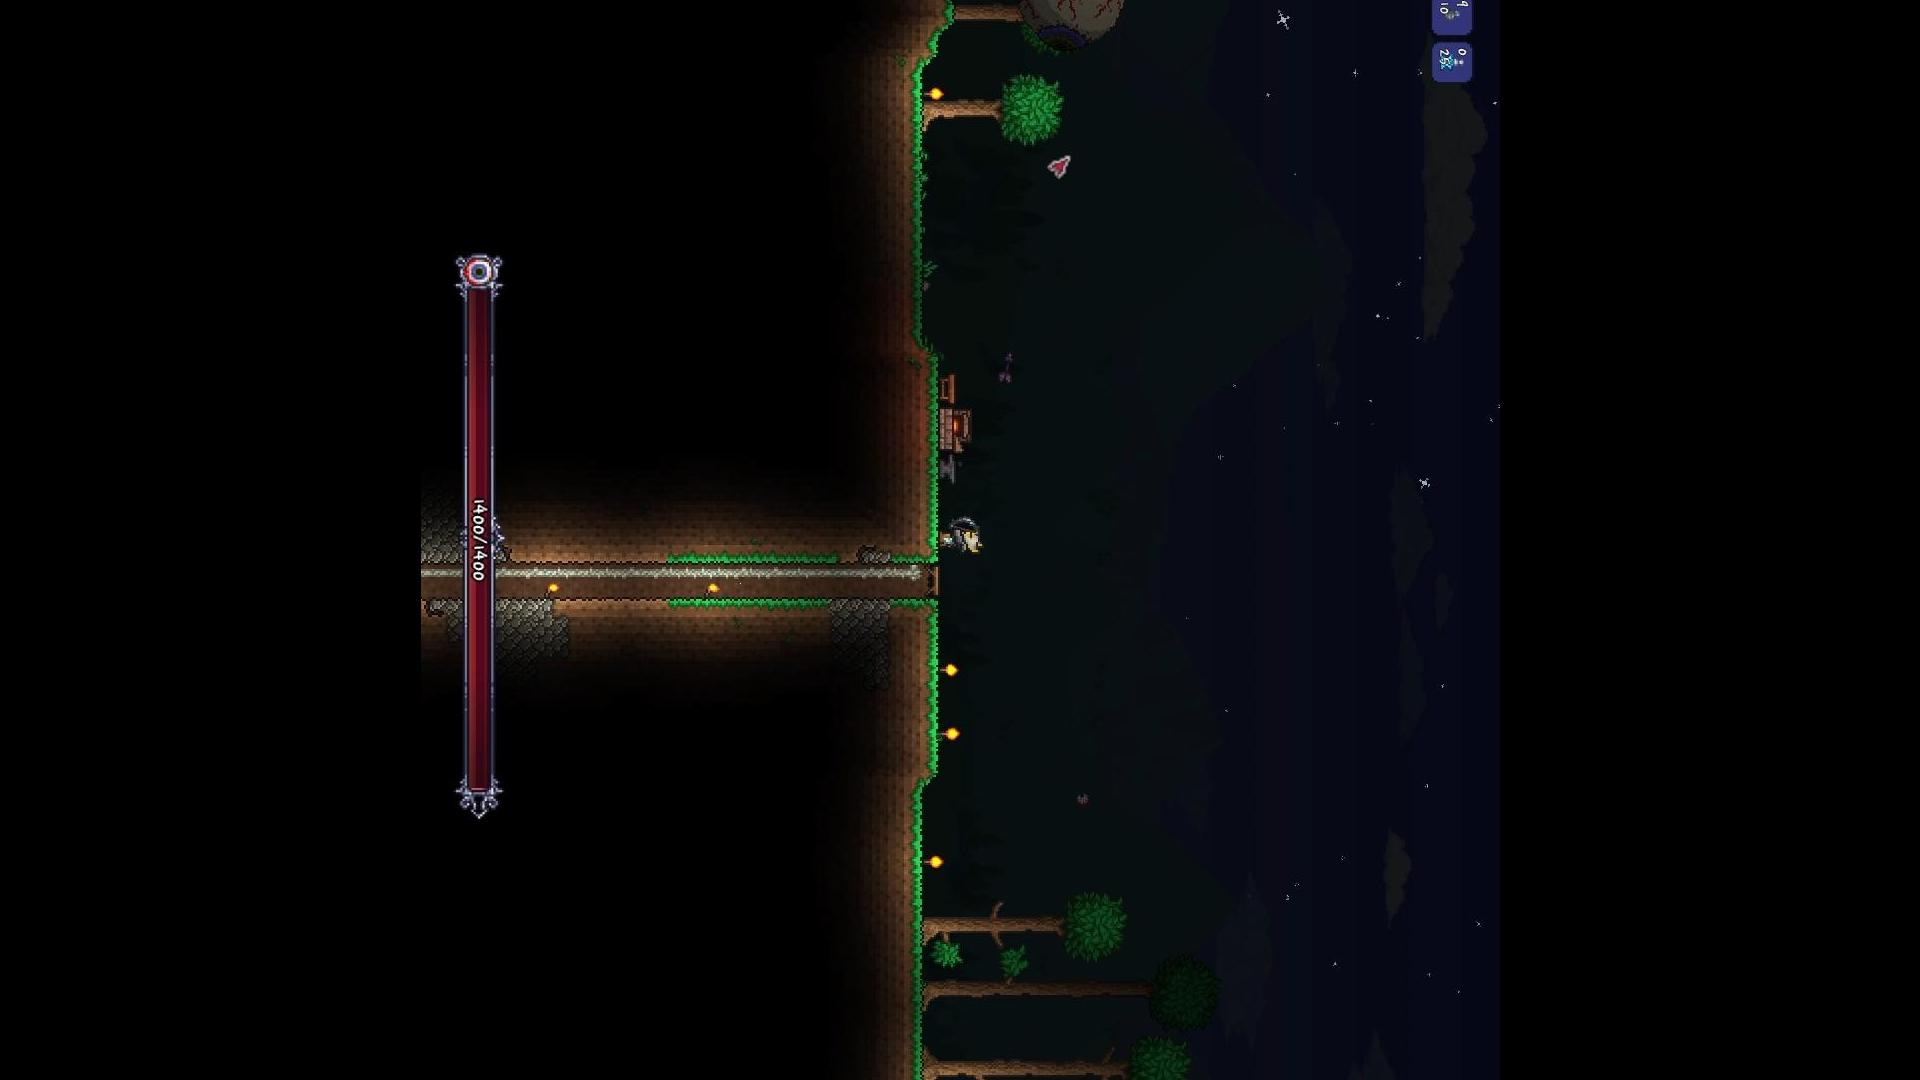eyeC: (1013, 0, 1133, 58)
